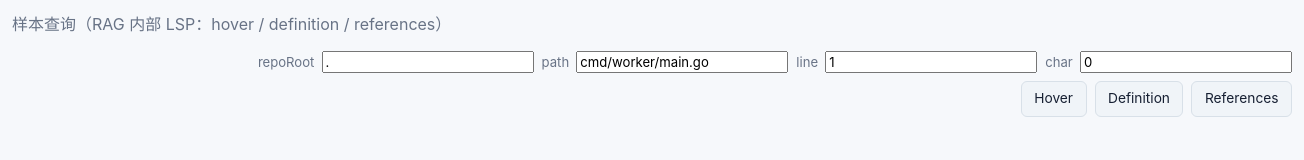
Test: RagLspProbePanel › disables actions when path is cleared
The width and height of the screenshot is (1304, 160).
Clear the field with test id "probe-path" at [682, 62], box [576,51,788,73]
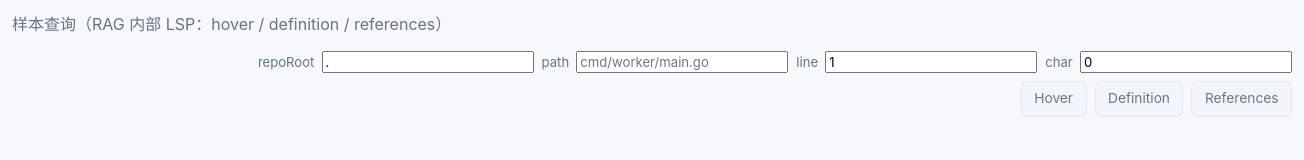
Result: the button with test id "probe-hover" is disabled at [1021,81,1086,117]
